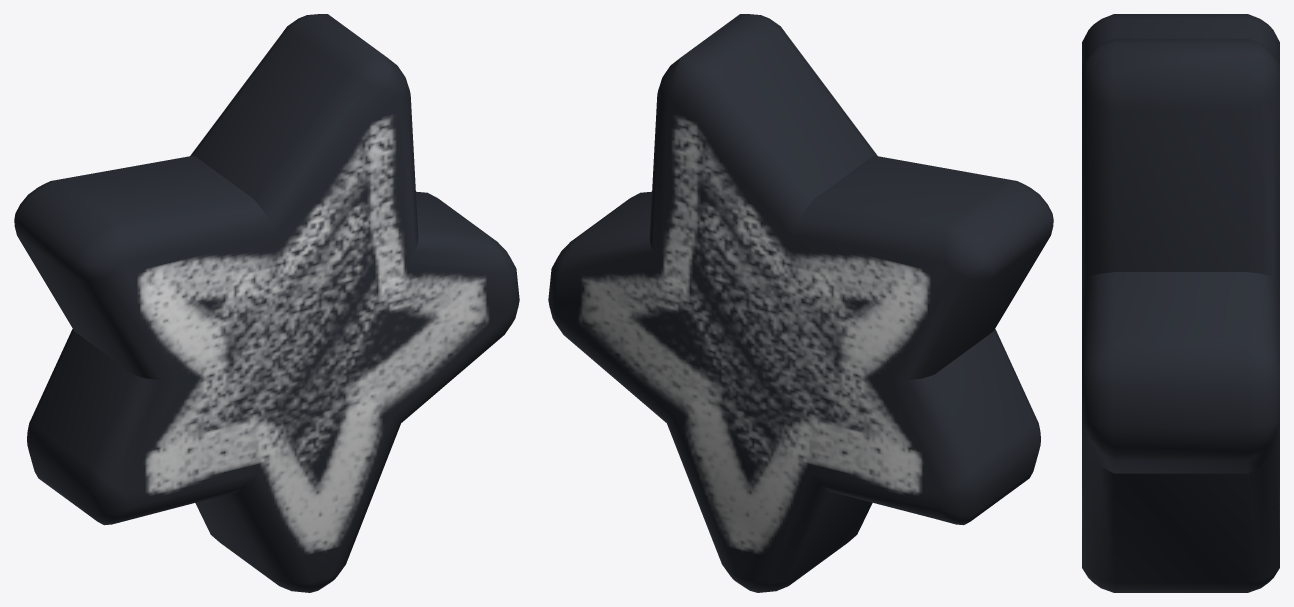
File: Star1.fbx
The picture shows the model from 3 angles, left to right: view 1: azimuth 30°, elevation 25°; view 2: azimuth 150°, elevation 25°; view 3: azimuth 270°, elevation 25°; orthographic projection. The views are drawn at different scales.
Visible parts, largest first — view 1: m_Star1; view 2: m_Star1; view 3: m_Star1.
Boxes of the visible parts, left/top/right/bottom form: m_Star1: left=14, top=14, right=519, bottom=592; m_Star1: left=548, top=14, right=1053, bottom=592; m_Star1: left=1082, top=14, right=1279, bottom=592.
Size of the model in its own units: 0.2904 by 0.3244 by 0.1.
